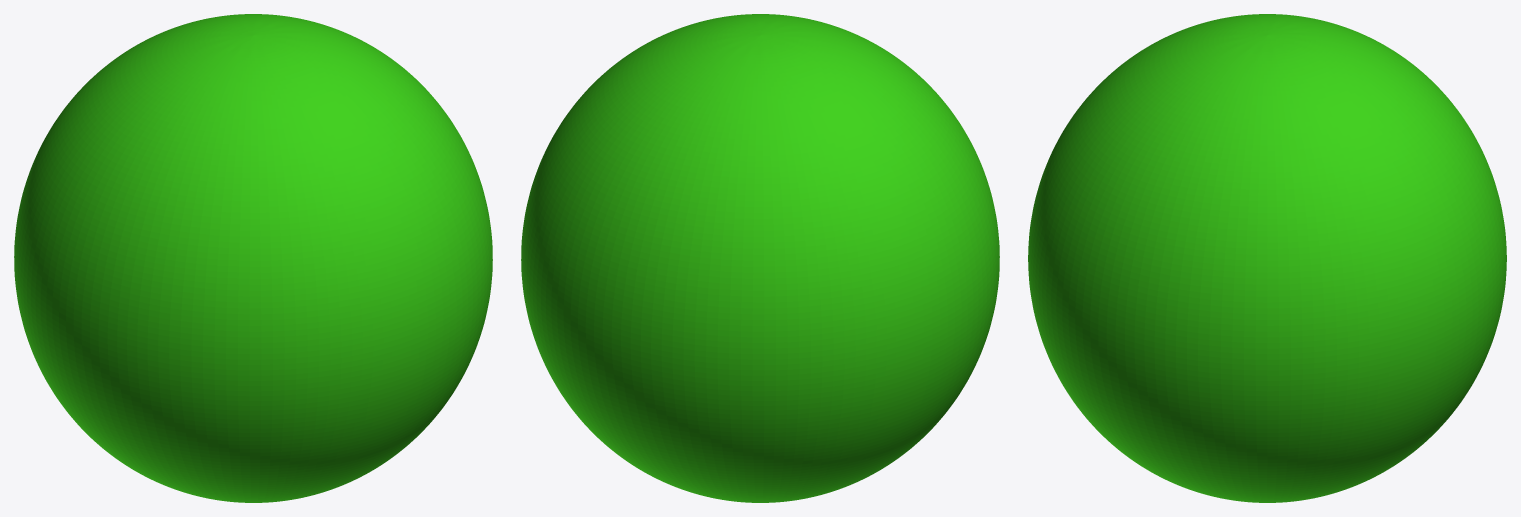
Rendered from ballGreen.fbx.
The picture shows the model from 3 angles, left to right: view 1: azimuth 30°, elevation 25°; view 2: azimuth 150°, elevation 25°; view 3: azimuth 270°, elevation 25°; orthographic projection.
Parts seen in each view (by area): view 1: Sphere.003; view 2: Sphere.003; view 3: Sphere.003.
Part boxes in pixels (bbox=[...]): Sphere.003: bbox=[14, 14, 492, 502]; Sphere.003: bbox=[521, 14, 999, 502]; Sphere.003: bbox=[1028, 14, 1506, 502].
Bounding box in the file's own units: 0.2905 × 0.2905 × 0.2987.
